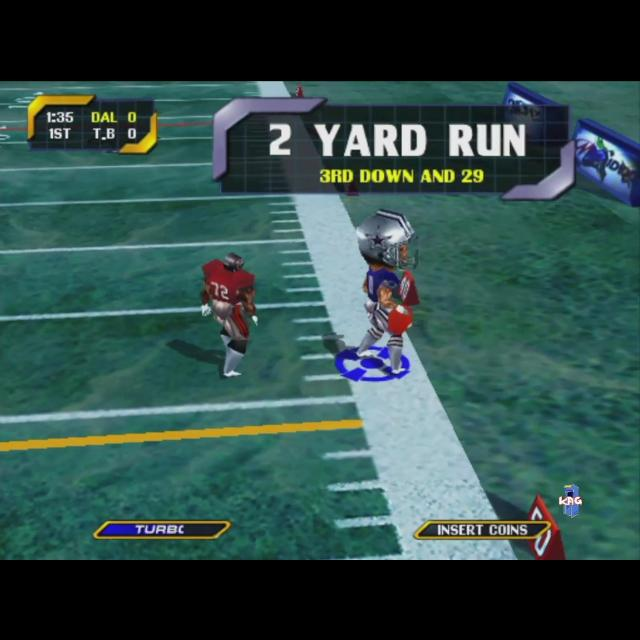player: (355, 207, 417, 375), (201, 251, 259, 377)
